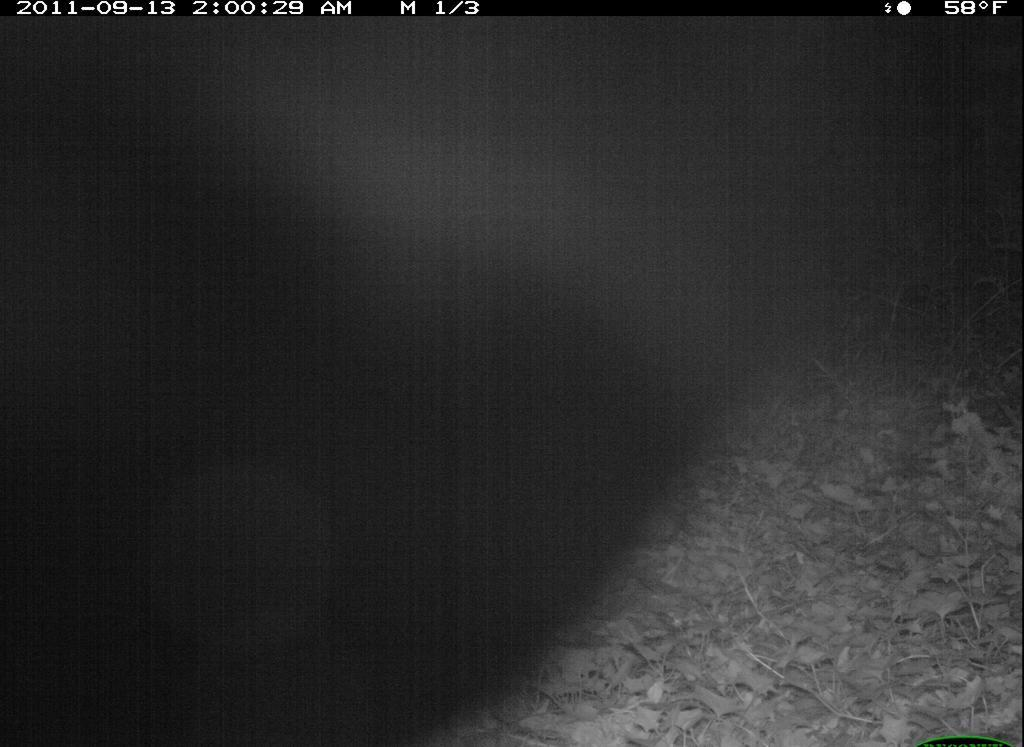coyote: (1, 21, 1012, 743)
